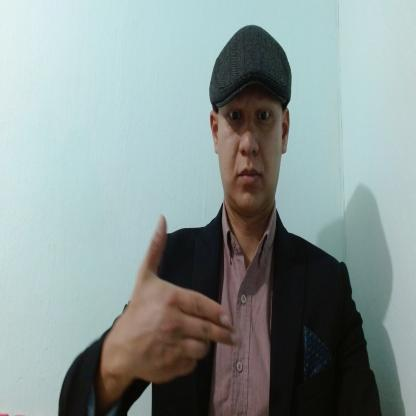H: (128, 214, 242, 385)
